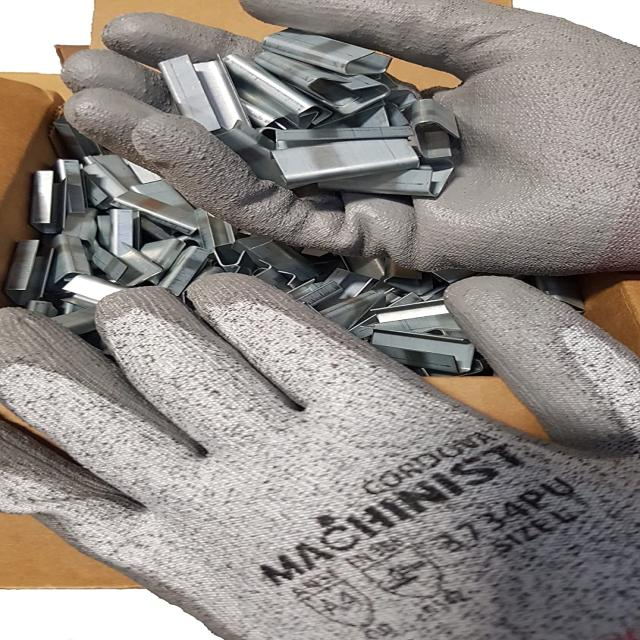gloves: (1, 270, 640, 640), (64, 0, 639, 277)
